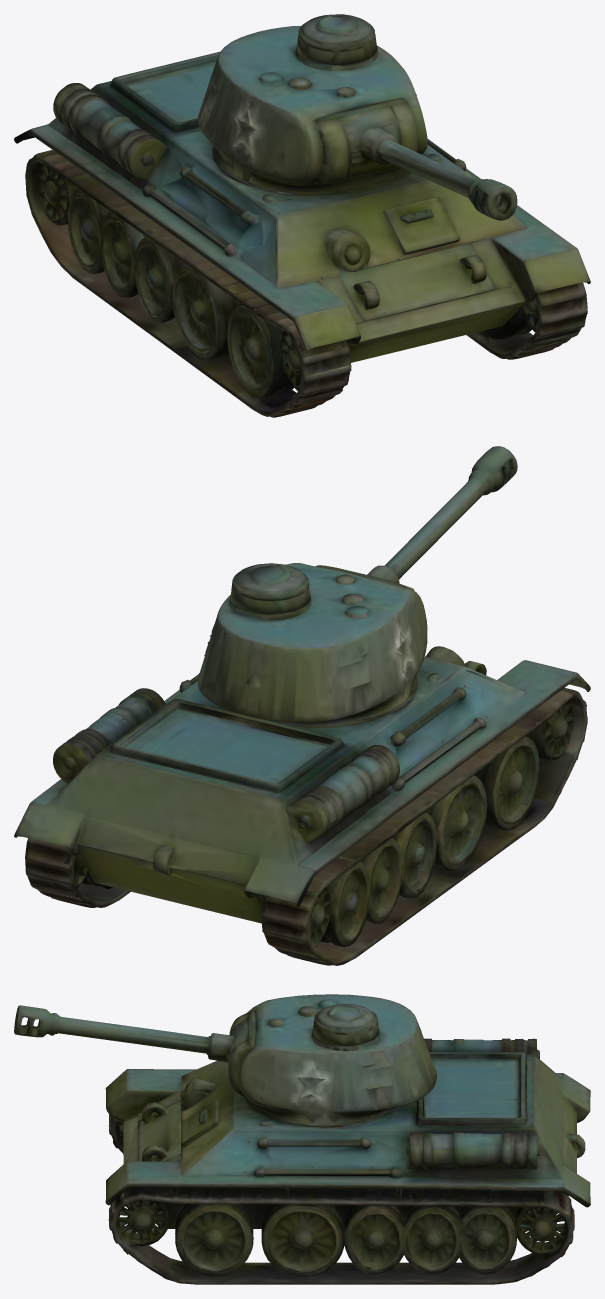
Rendered from is2_opt.glb.
The picture shows the model from 3 angles, top to bottom: view 1: azimuth 30°, elevation 25°; view 2: azimuth 150°, elevation 25°; view 3: azimuth 270°, elevation 25°; orthographic projection. The views are drawn at different scales.
Visible parts, largest first — view 1: node_0; view 2: node_0; view 3: node_0.
Boxes of the visible parts, x1,y1,x2,y2 form: node_0: [14, 14, 590, 417]; node_0: [14, 446, 590, 965]; node_0: [14, 994, 590, 1284].
Size of the model in its own units: 0.5078 by 0.4776 by 1.08.
Materials: 1 (1 with a texture image).
